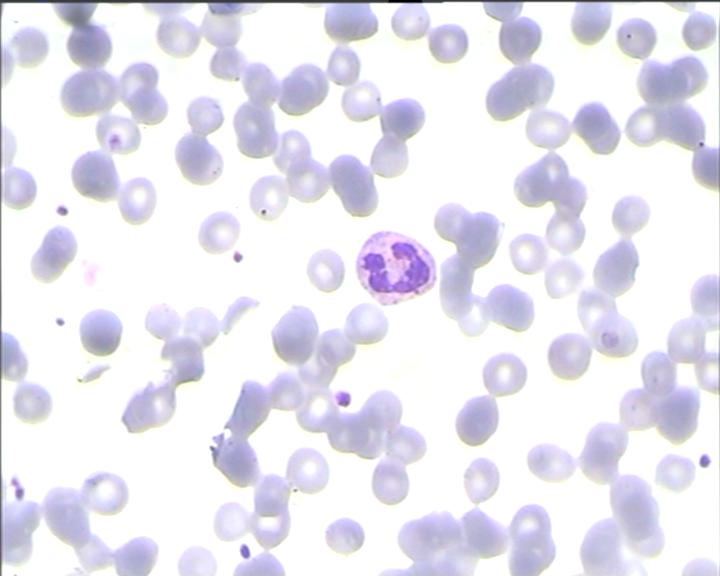neut: (353, 229, 439, 311)
